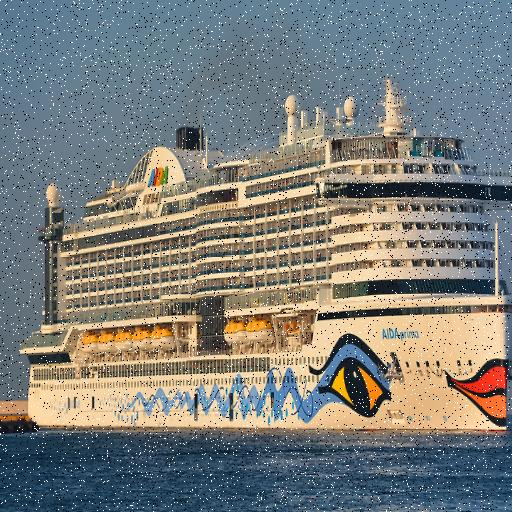cruises: (18, 77, 512, 443)
